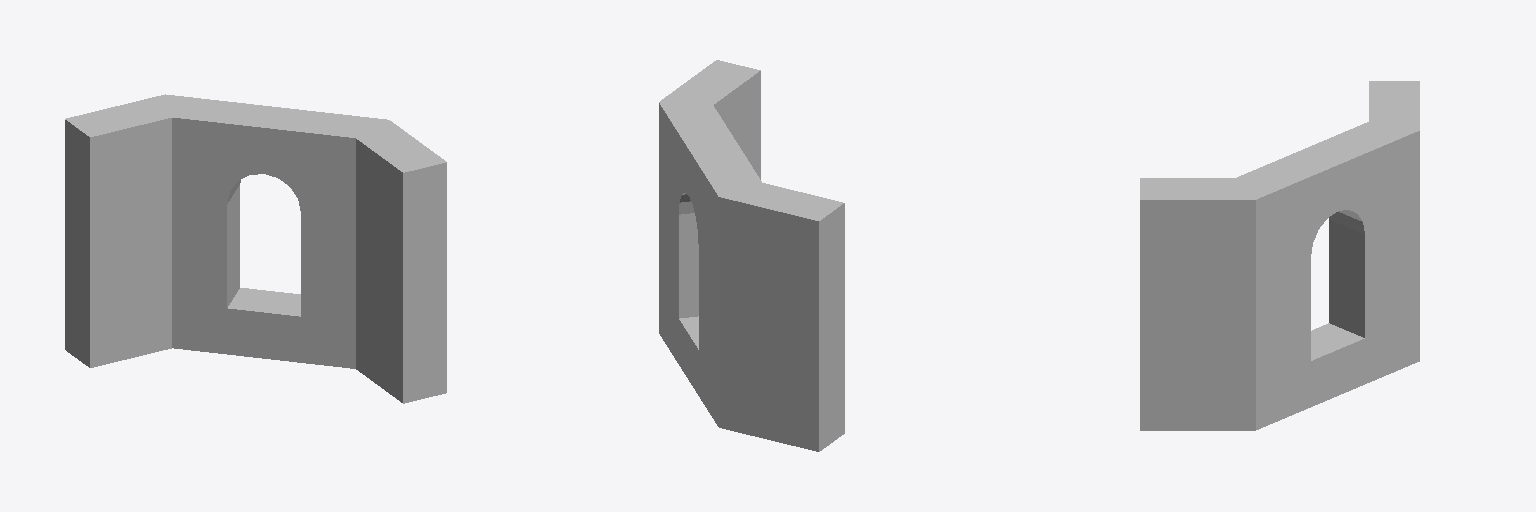
The model's file is 2_wall_window_corner.obj.
3 renders of one model, left to right at view 1: azimuth 30°, elevation 25°; view 2: azimuth 150°, elevation 25°; view 3: azimuth 270°, elevation 25°, orthographic.
Parts seen in each view (by area): view 1: object1; view 2: object1; view 3: object1.
Part boxes in pixels (left/top/right/bottom): object1: left=65, top=94, right=446, bottom=403; object1: left=659, top=60, right=844, bottom=451; object1: left=1140, top=81, right=1419, bottom=430.
Size of the model in its own units: 1.1 by 1 by 1.1.